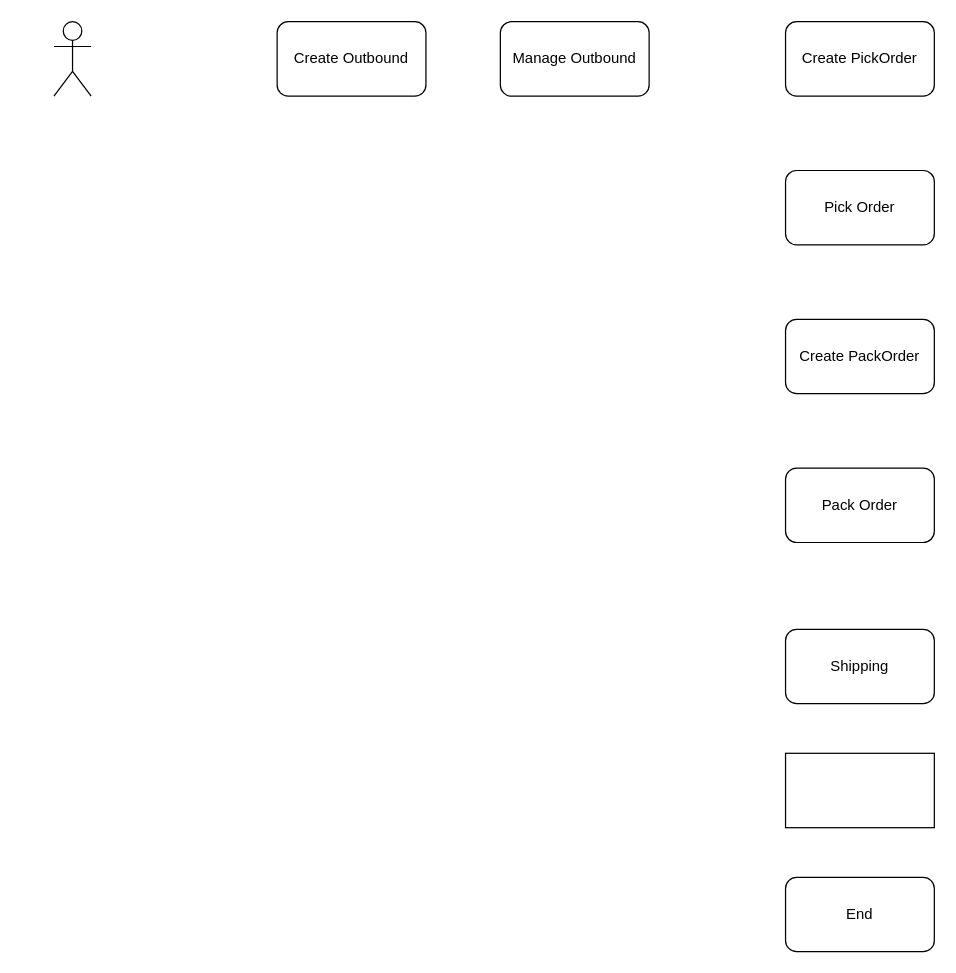
This 956x973 diagram has some shape labels left out. The centre of each missing label's shape, as x and y in pixels:
Customer/OMS: point (72, 58)
Signed: point (859, 790)
